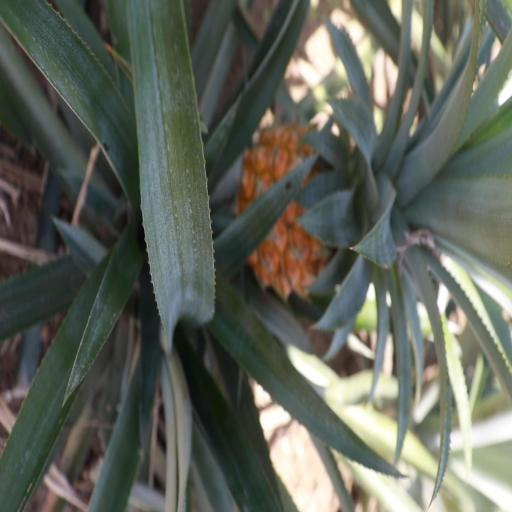Pineapple - v8 v1: (241, 123, 512, 292)
